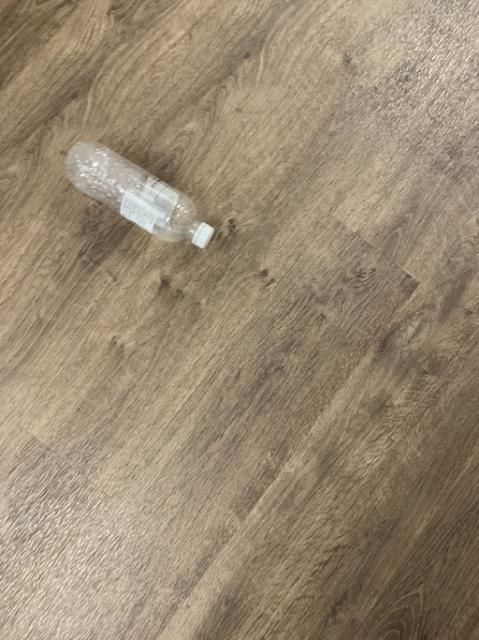plastic: (64, 140, 213, 246)
